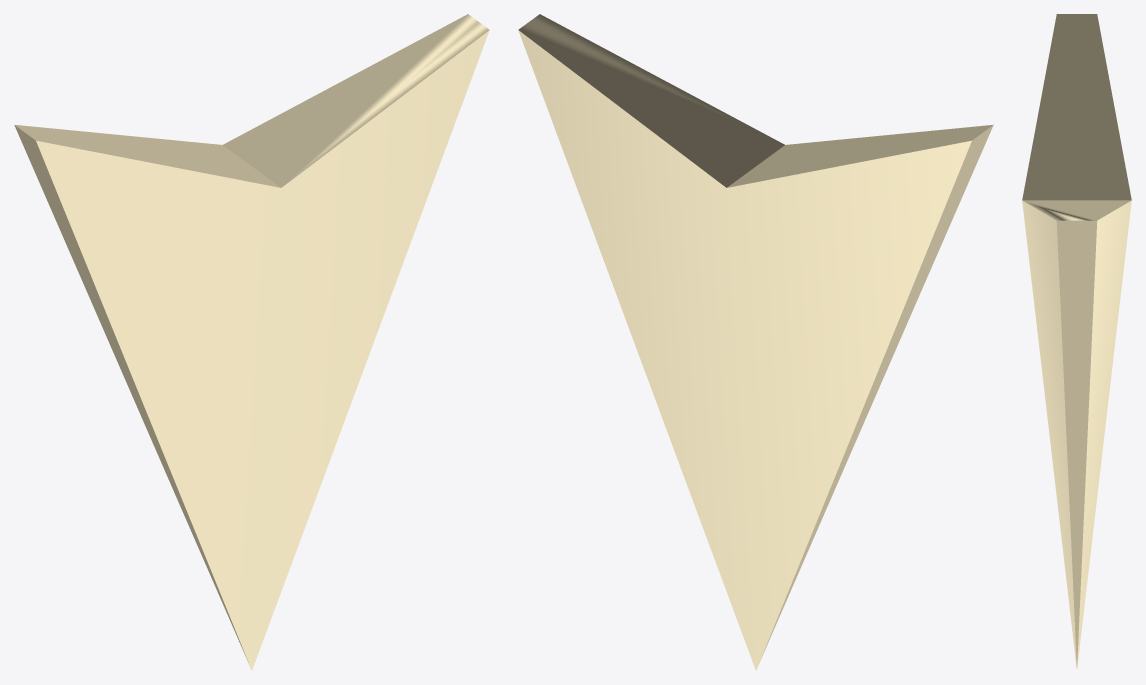
The model's file is white.gltf.
The picture shows the model from 3 angles, left to right: view 1: azimuth 30°, elevation 25°; view 2: azimuth 150°, elevation 25°; view 3: azimuth 270°, elevation 25°; orthographic projection. The views are drawn at different scales.
Parts seen in each view (by area): view 1: dingwei; view 2: dingwei; view 3: dingwei.
Boxes of the visible parts, bbox=[...] form: dingwei: bbox=[14, 14, 489, 670]; dingwei: bbox=[518, 14, 993, 670]; dingwei: bbox=[1022, 14, 1131, 669].
Size of the model in its own units: 16.78 by 20.97 by 3.76.
